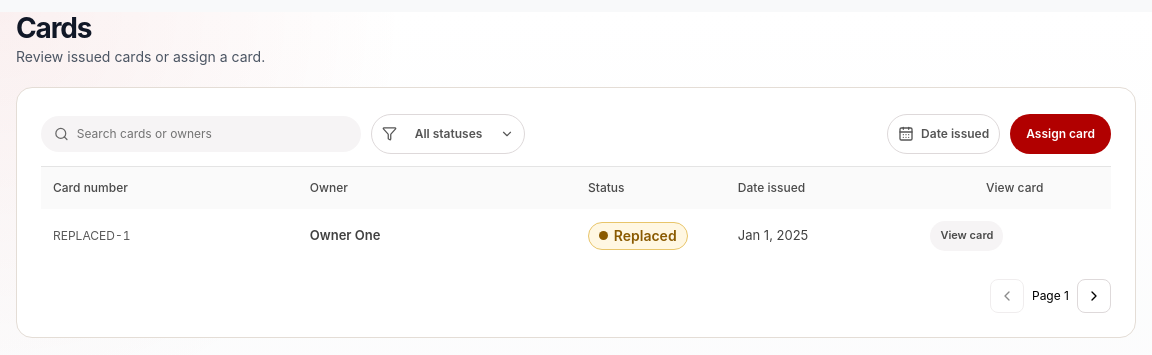
Test case: Supervisor card management tabs › preserves active filters across cursor pages and resets pagination after a filter change
This screenshot has width=1152, height=355.
Expected: the table named "Issued cards" is shown, [41,167,1111,263]
Click the button with aria-label "Filter by status": [448, 134] box [371,114,525,154]
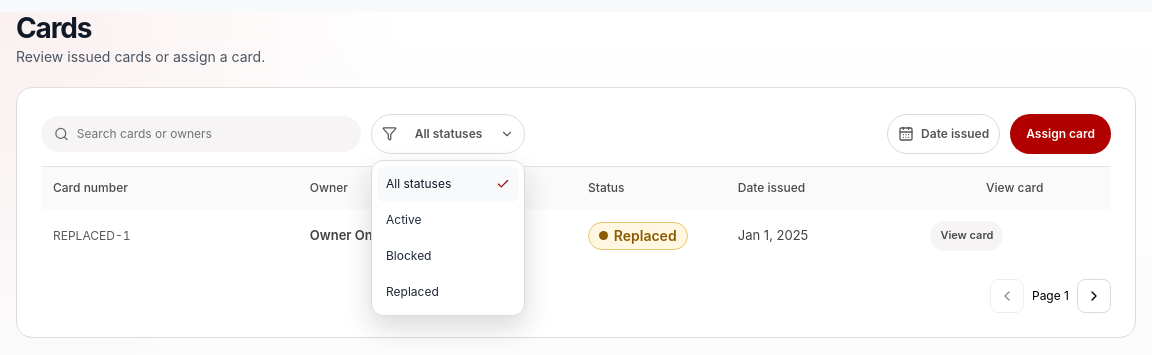
Click the option "Replaced": [448, 292] box [377,274,519,310]
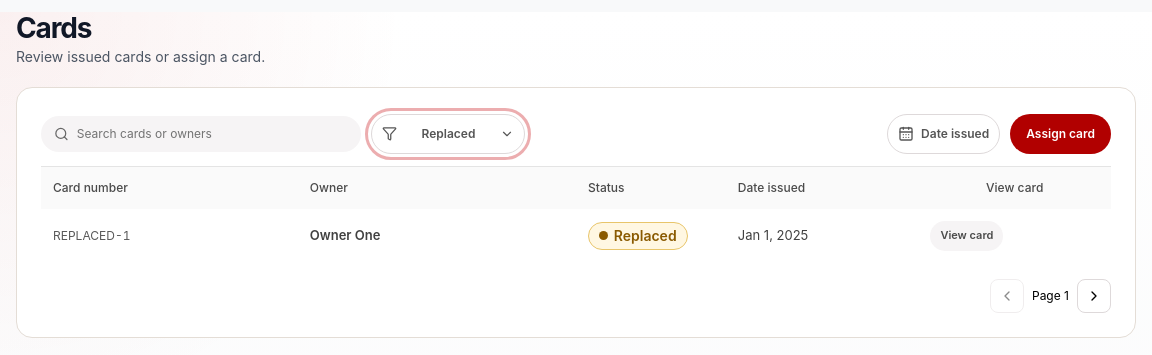
Click the button named "Next page": [1094, 296] box [1077,279,1111,313]
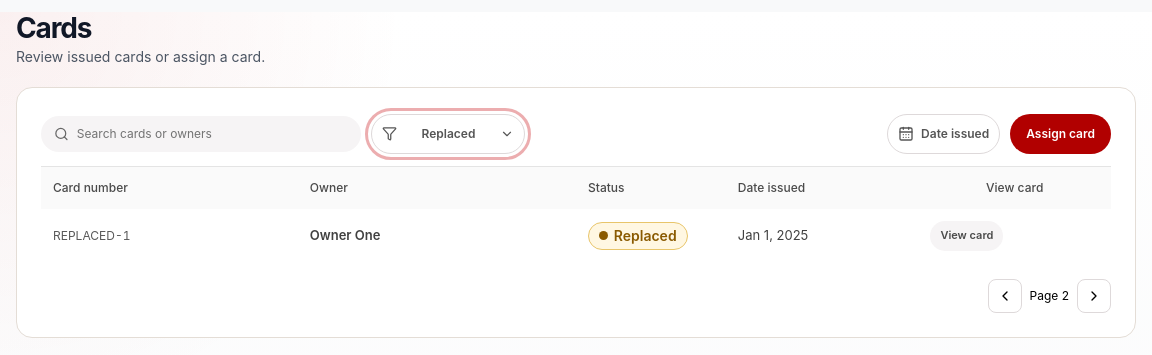
Now the text "Page 2" is shown, box [1030,287,1069,305]
Click the button with aria-label "Filter by status": [448, 134] box [371,114,525,154]
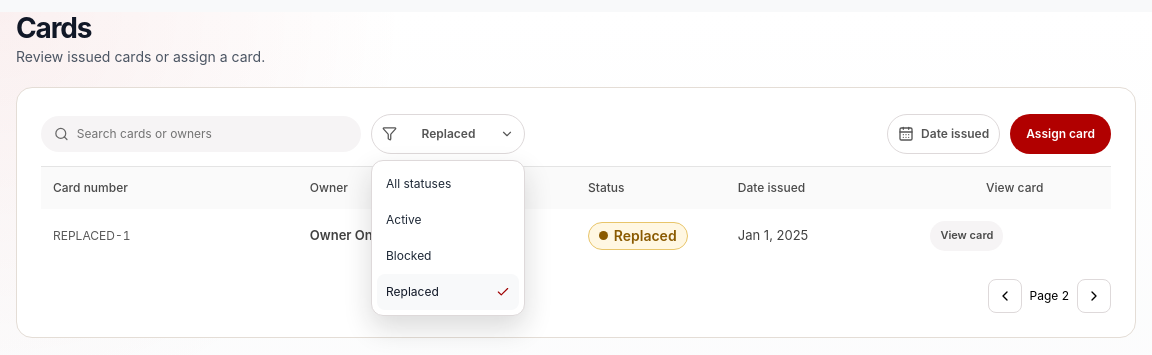
Click the option "Active": [448, 220] box [377,202,519,238]
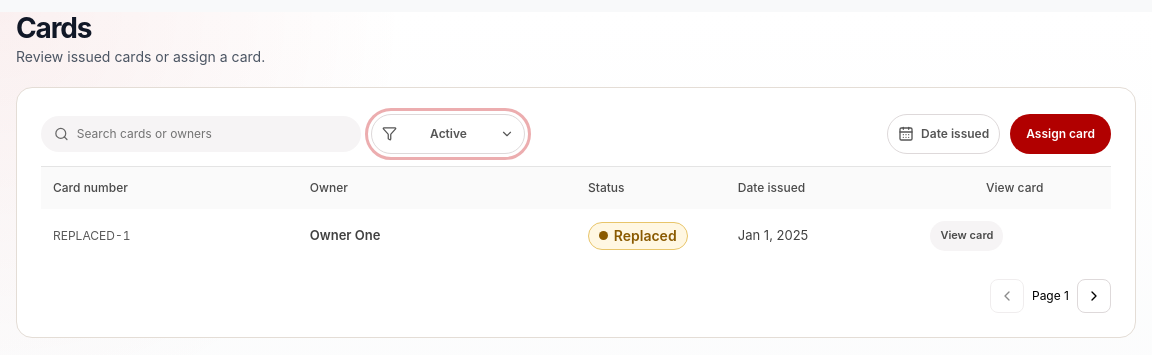
Now the text "Page 1" is shown, box [1032,287,1069,305]
Now the button named "Previous page" is disabled, box [990,279,1024,313]
